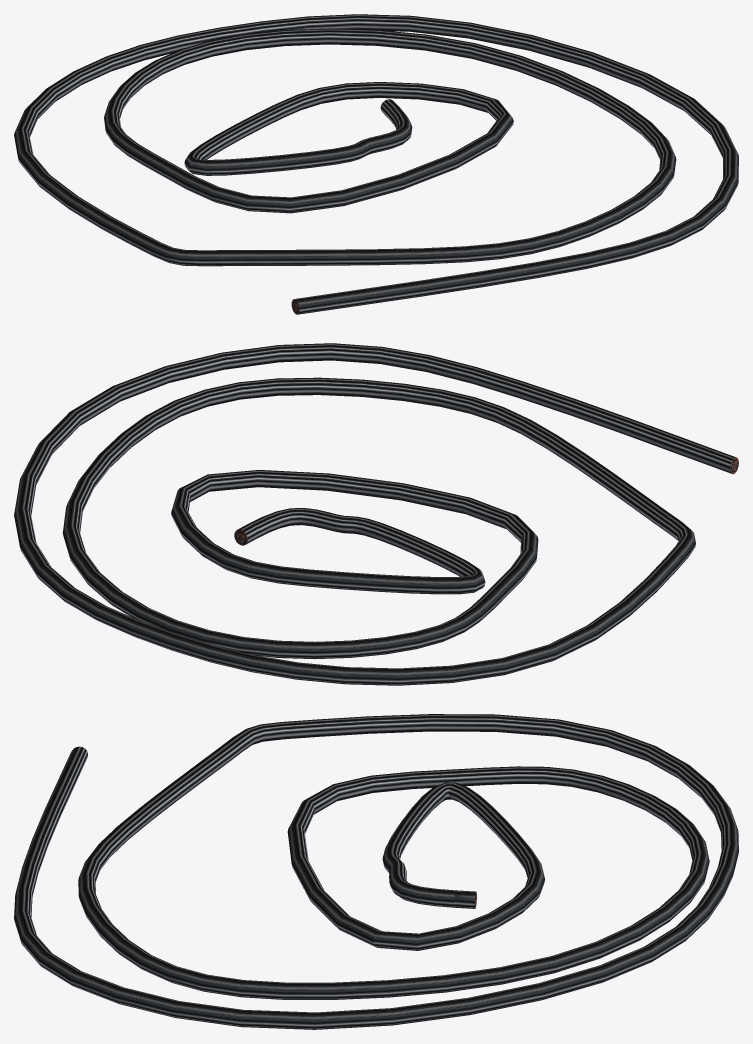
File: Wire2.fbx
3 renders of one model, top to bottom at view 1: azimuth 30°, elevation 25°; view 2: azimuth 150°, elevation 25°; view 3: azimuth 270°, elevation 25°, orthographic. The views are drawn at different scales.
Parts seen in each view (by area): view 1: pCylinder1; view 2: pCylinder1; view 3: pCylinder1.
Part boxes in pixels (<box>): pCylinder1: <box>14,14,738,314</box>; pCylinder1: <box>14,343,738,685</box>; pCylinder1: <box>14,714,738,1029</box>.
Bounding box in the file's own units: 16.56 × 0.4 × 16.6.
1 material, 1 textured.
